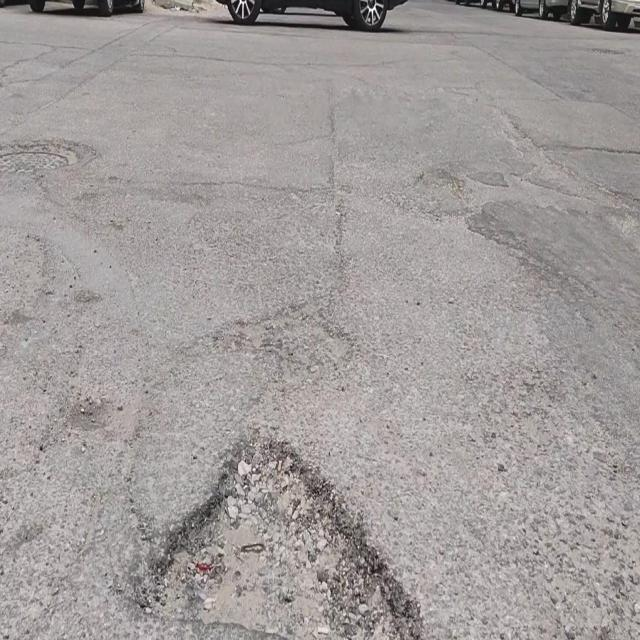Potholes: (120, 435, 422, 640)
